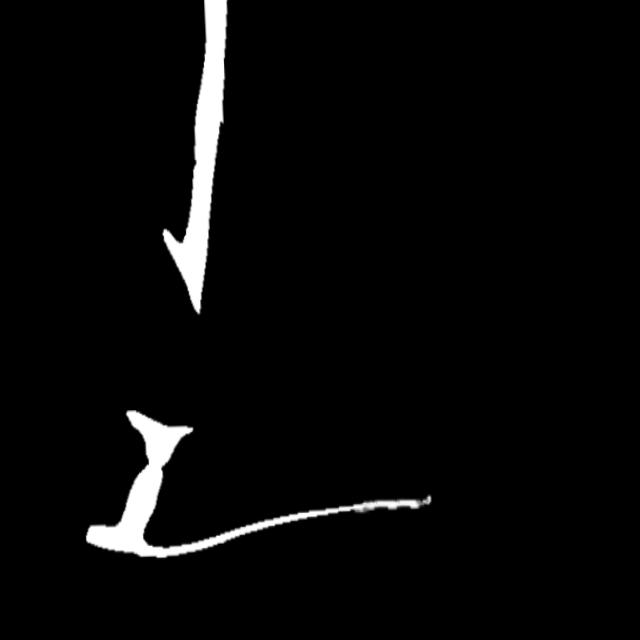stp: (397, 490, 440, 514)
